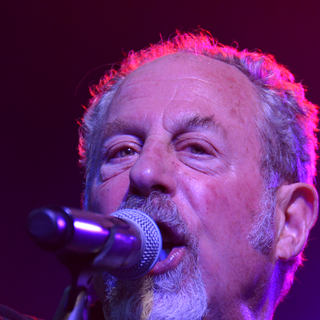eye: (176, 138, 220, 159), (103, 142, 141, 161)
